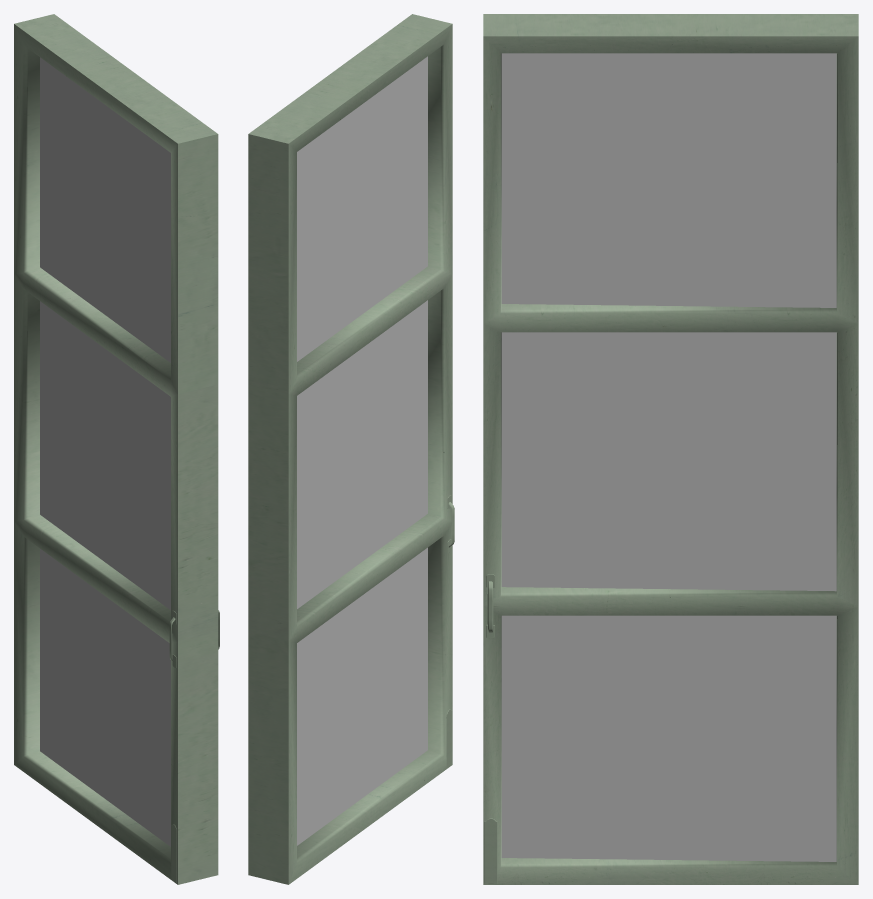
The model's file is SM_WW11_Door_2.fbx.
3 renders of one model, left to right at view 1: azimuth 30°, elevation 25°; view 2: azimuth 150°, elevation 25°; view 3: azimuth 270°, elevation 25°, orthographic. The views are drawn at different scales.
Parts seen in each view (by area): view 1: SM_WW11_Door_2; view 2: SM_WW11_Door_2; view 3: SM_WW11_Door_2.
Boxes of the visible parts, x1,y1,x2,y2 form: SM_WW11_Door_2: (14,14,219,884); SM_WW11_Door_2: (248,14,454,884); SM_WW11_Door_2: (483,14,858,884).
Size of the model in its own units: 9.97 by 57.99 by 145.
Materials: 2 (1 with a texture image).
